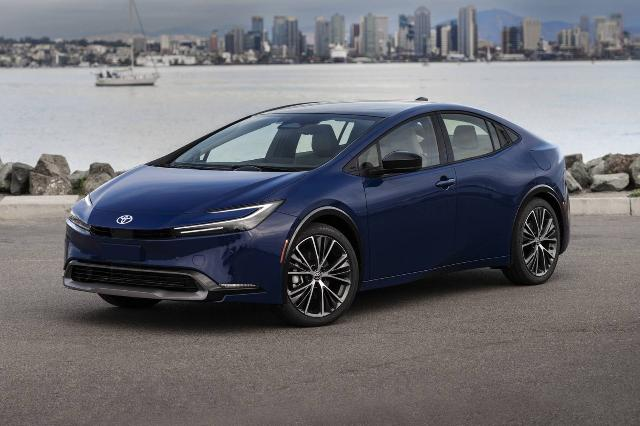toyota: (61, 95, 572, 326)
